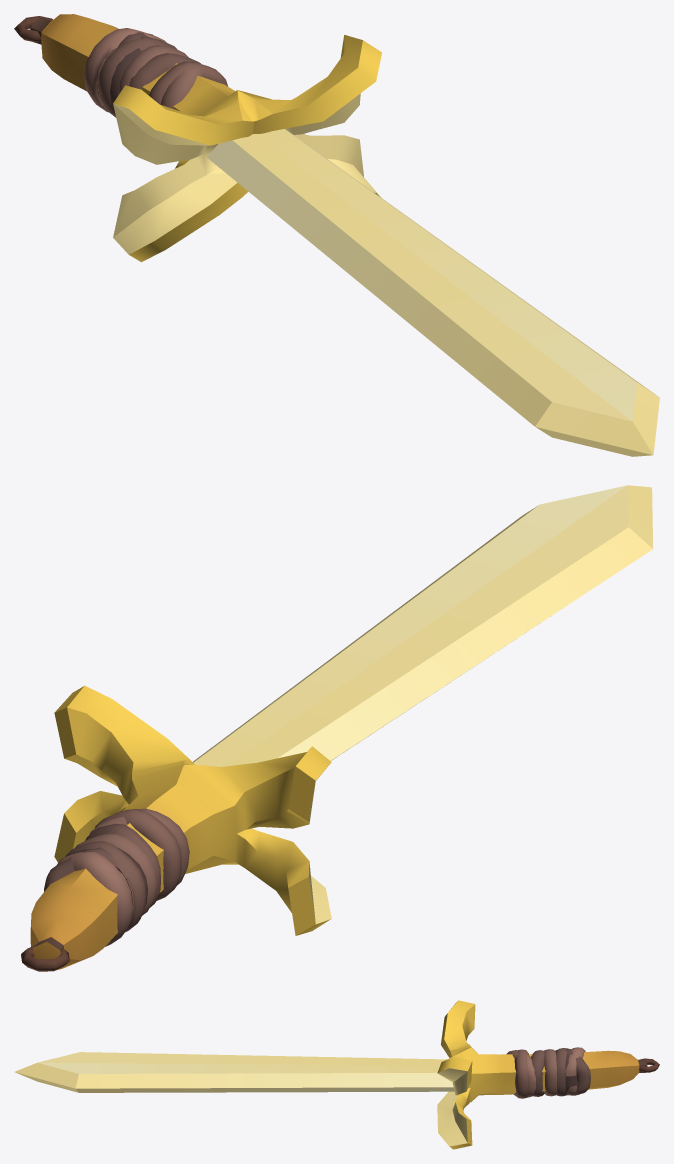
Rendered from Excalibanana.glb.
3 views of the same model, one above another, from view 1: azimuth 30°, elevation 25°; view 2: azimuth 150°, elevation 25°; view 3: azimuth 270°, elevation 25° (orthographic). The views are drawn at different scales.
Visible parts, largest first — view 1: Weapon_Bananatana.001; view 2: Weapon_Bananatana.001; view 3: Weapon_Bananatana.001.
Boxes of the visible parts, box(x1,y1,x2,y2) form: Weapon_Bananatana.001: box(14, 14, 659, 456); Weapon_Bananatana.001: box(21, 485, 653, 971); Weapon_Bananatana.001: box(14, 1000, 659, 1149).
Size of the model in its own units: 0.1563 by 0.104 by 0.6577.
Materials: 1 (1 with a texture image).
